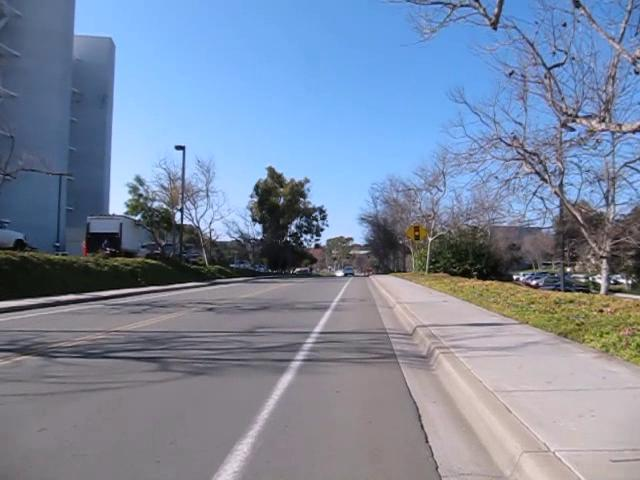signalAhead: (404, 220, 428, 245)
